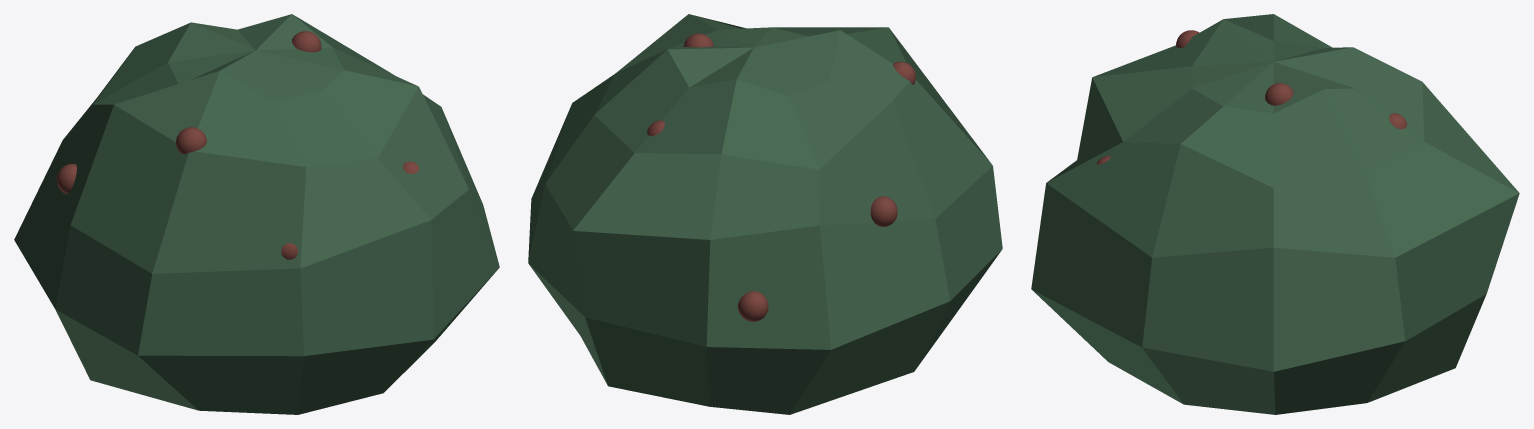
File: bush002.fbx
3 renders of one model, left to right at view 1: azimuth 30°, elevation 25°; view 2: azimuth 150°, elevation 25°; view 3: azimuth 270°, elevation 25°, orthographic. The views are drawn at different scales.
Parts seen in each view (by area): view 1: bush002; view 2: bush002; view 3: bush002.
Part boxes in pixels (bbox=[...]): bush002: bbox=[14, 14, 499, 414]; bush002: bbox=[528, 14, 1002, 414]; bush002: bbox=[1031, 14, 1519, 414].
Size of the model in its own units: 4.87 by 4.98 by 3.31.
